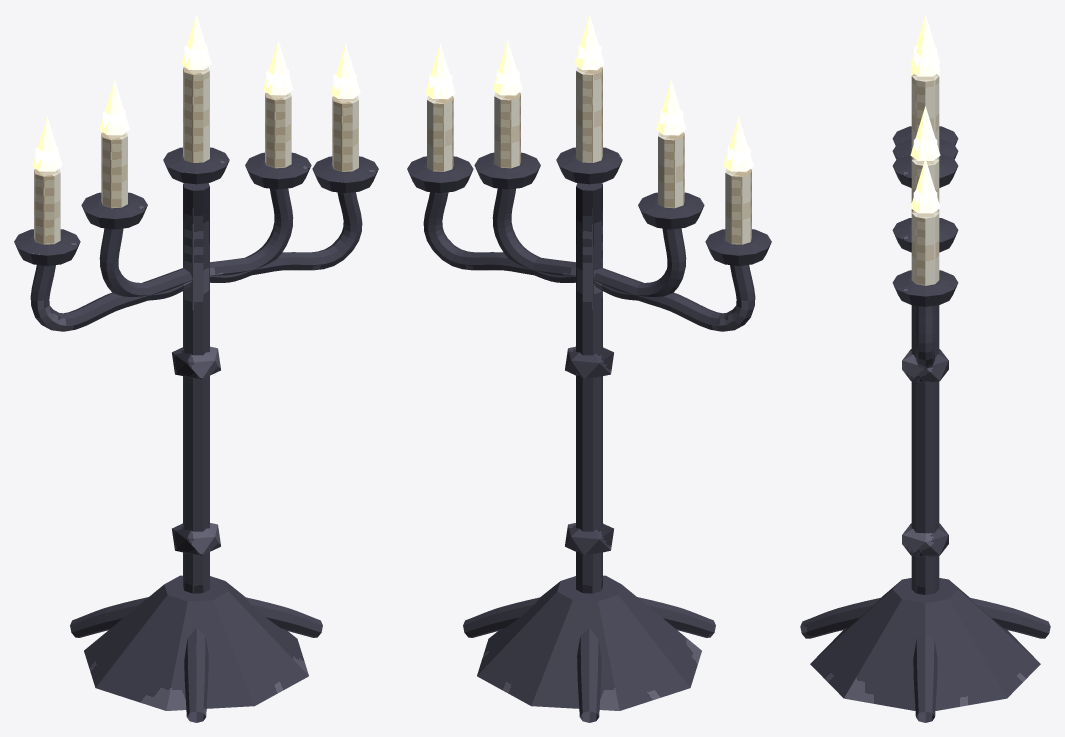
Rendered from tower_candelabra.glb.
3 views of the same model, side by side, from view 1: azimuth 30°, elevation 25°; view 2: azimuth 150°, elevation 25°; view 3: azimuth 270°, elevation 25° (orthographic).
Visible parts, largest first — view 1: Stand, Wax, Flame; view 2: Stand, Wax, Flame; view 3: Stand, Wax, Flame.
Boxes of the visible parts, x1,y1,x2,y2 form: Stand: [14, 147, 378, 722]; Wax: [34, 67, 358, 244]; Flame: [32, 14, 360, 171]; Stand: [407, 147, 771, 722]; Wax: [427, 67, 751, 244]; Flame: [425, 14, 753, 171]; Stand: [800, 126, 1050, 722]; Wax: [911, 74, 939, 285]; Flame: [910, 14, 940, 213].
Size of the model in its own units: 1.48 by 2.59 by 0.9109.
Materials: 4 (2 with a texture image).
